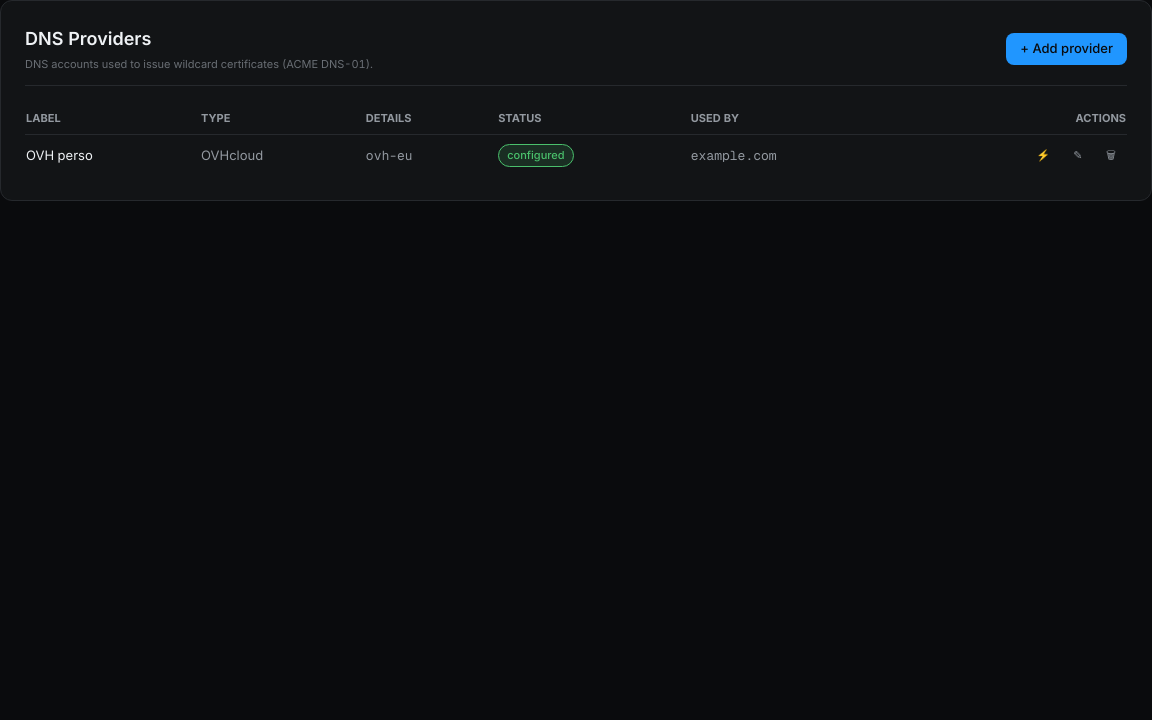
DNSProvidersSection › connection test: prefills the bound zone and shows the record count
Click the button with test id "dns-provider-test-id-1".
click(1043, 155)  # box x1=1026 y1=143 x2=1060 y2=168
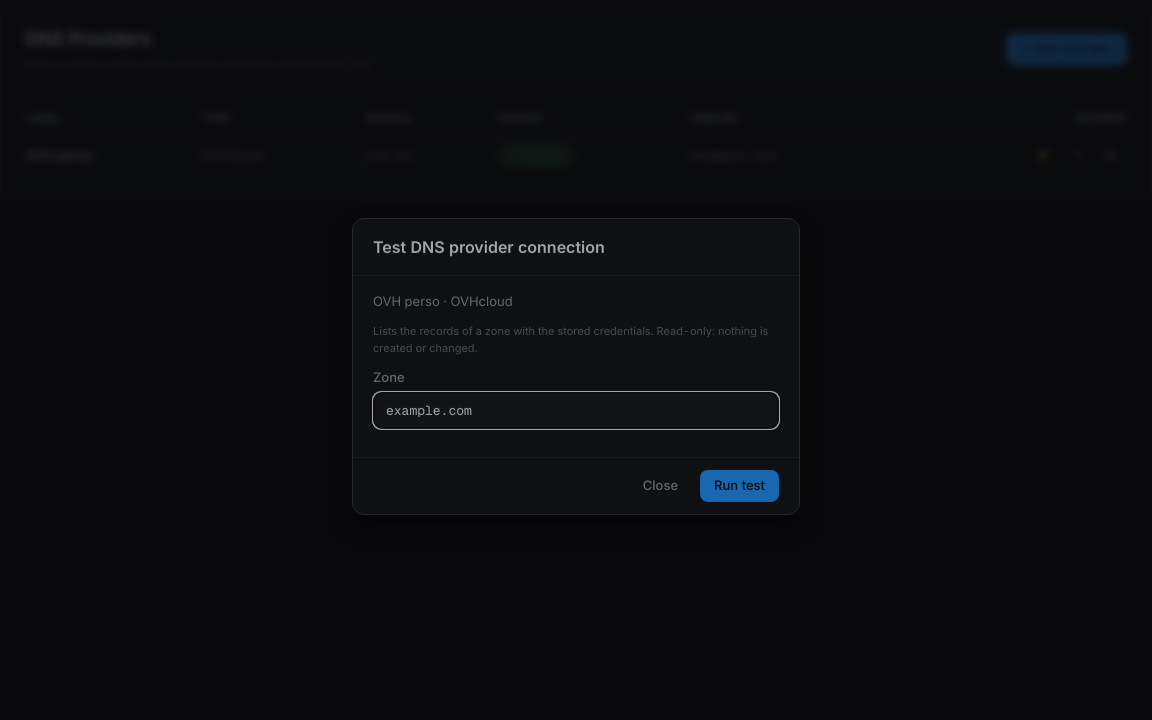
expect the field labelled "Zone" holds "example.com": met, box x1=373 y1=389 x2=779 y2=426
Click the button with test id "dns-provider-test-run".
click(740, 483)  # box x1=700 y1=467 x2=779 y2=499
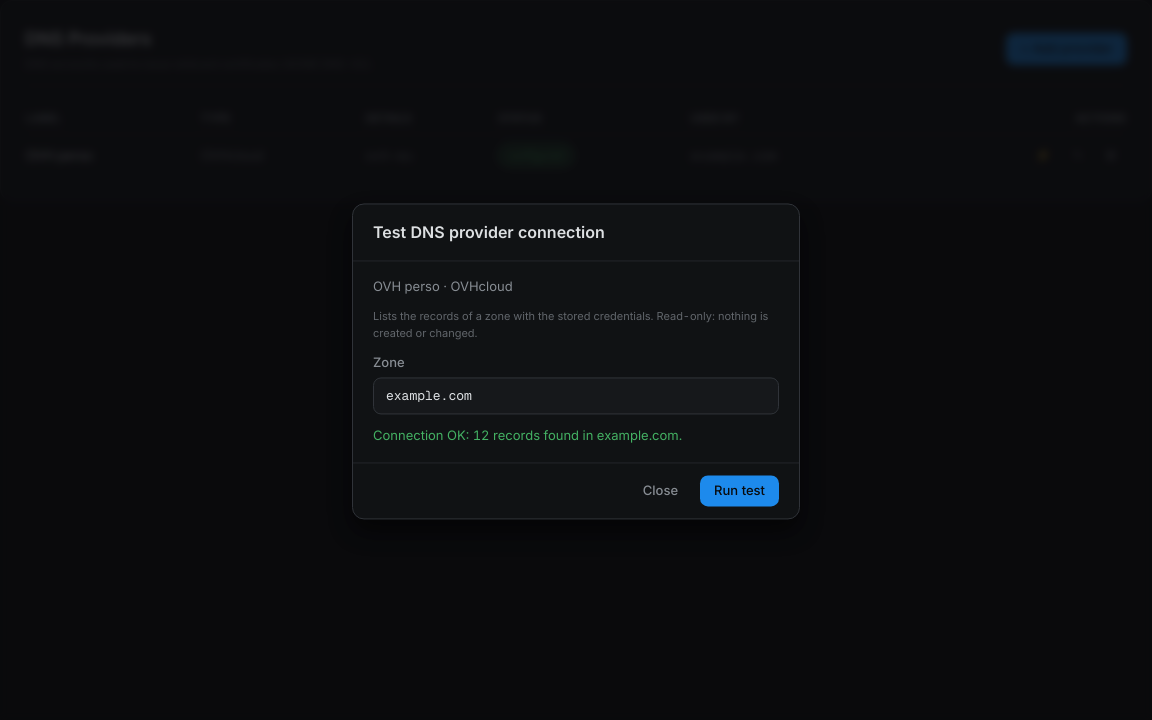
expect the text with test id "dns-provider-test-ok" shows "12": met, box x1=373 y1=427 x2=682 y2=443
